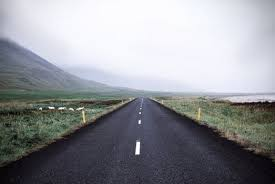strada: (80, 99, 230, 183)
